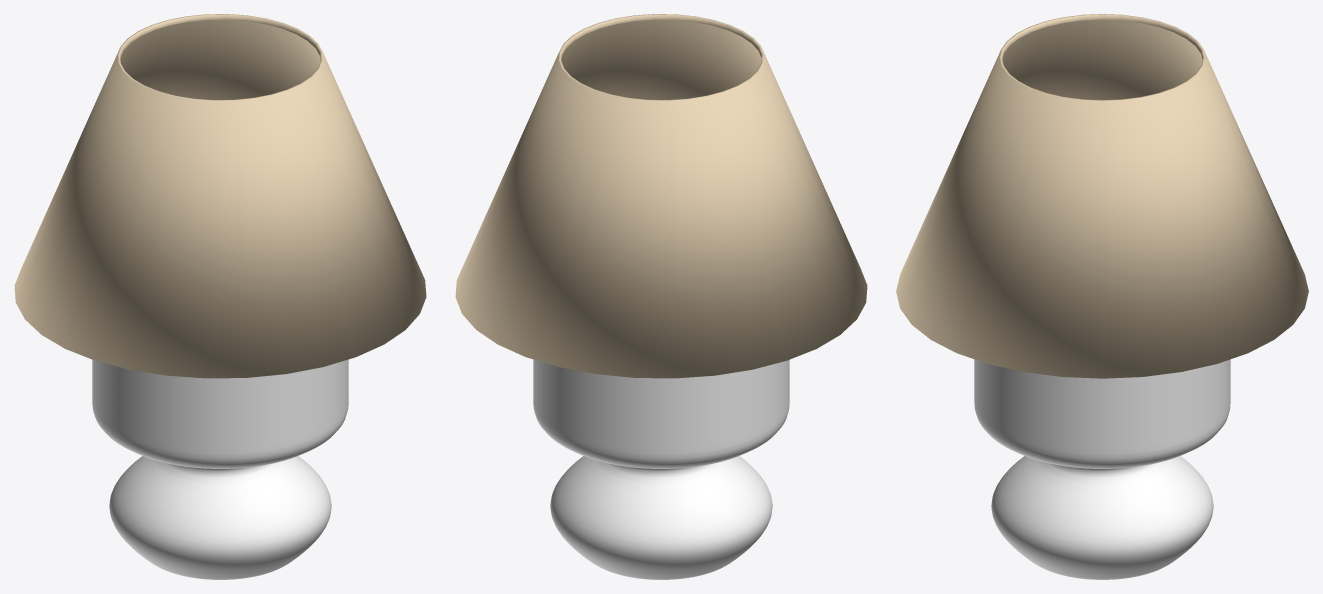
File: Lamp1.fbx
3 renders of one model, left to right at view 1: azimuth 30°, elevation 25°; view 2: azimuth 150°, elevation 25°; view 3: azimuth 270°, elevation 25°, orthographic.
Parts seen in each view (by area): view 1: Lampshade, Lamp_base; view 2: Lampshade, Lamp_base; view 3: Lampshade, Lamp_base.
Part boxes in pixels (x1=…): Lampshade: x1=14, y1=14, x2=426, y2=378; Lamp_base: x1=92, y1=359, x2=348, y2=579; Lampshade: x1=455, y1=14, x2=867, y2=378; Lamp_base: x1=533, y1=359, x2=789, y2=579; Lampshade: x1=896, y1=14, x2=1308, y2=378; Lamp_base: x1=974, y1=359, x2=1230, y2=579.
Size of the model in its own units: 404 by 530 by 404.
